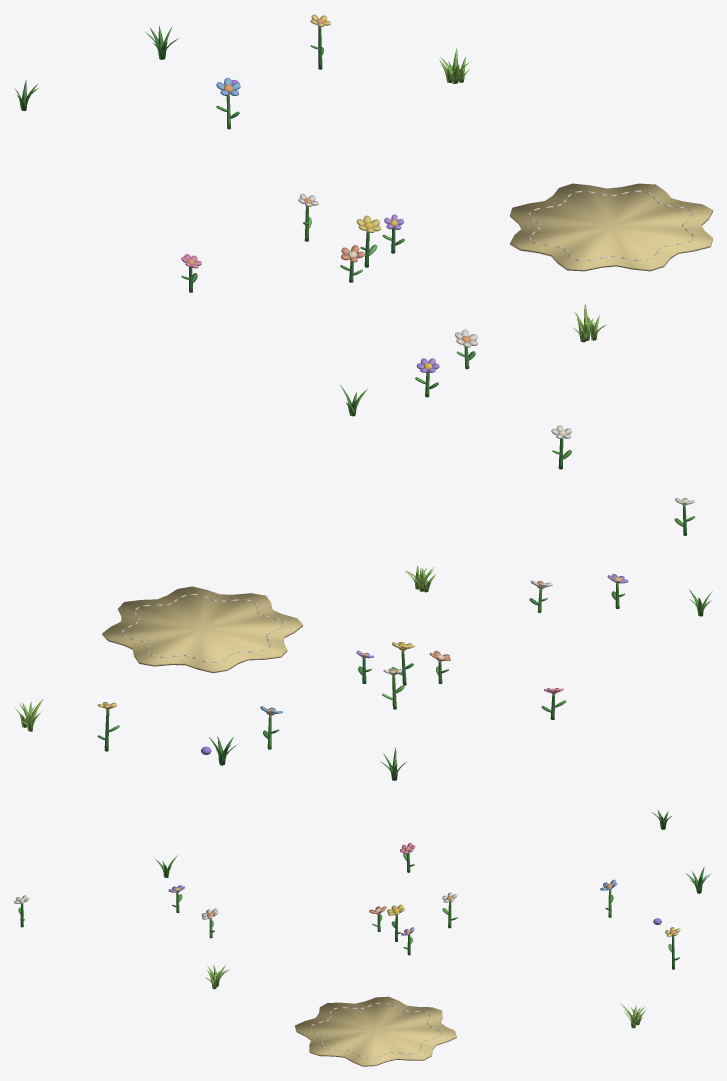
File: W4_FloraRing_7_10.fbx
3 views of the same model, one above another, from view 1: azimuth 30°, elevation 25°; view 2: azimuth 150°, elevation 25°; view 3: azimuth 270°, elevation 25° (orthographic). The views are drawn at different scales.
Visible parts, largest first — view 1: W4_FloraRing_7_10; view 2: W4_FloraRing_7_10; view 3: W4_FloraRing_7_10.
Part boxes in pixels (x1,y1,x2,y2): W4_FloraRing_7_10: (14, 14, 712, 469); W4_FloraRing_7_10: (15, 498, 712, 780); W4_FloraRing_7_10: (14, 810, 711, 1066).
Size of the model in its own units: 2.3 by 0.4623 by 3.67.
